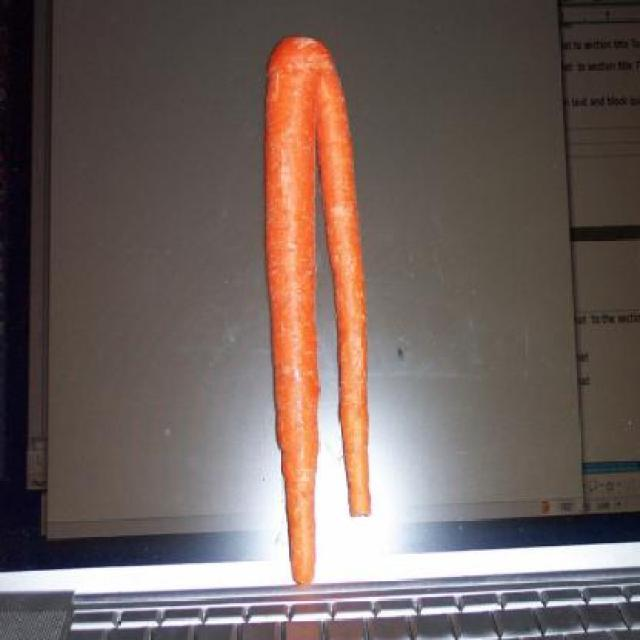Carrot: (258, 6, 380, 599)
